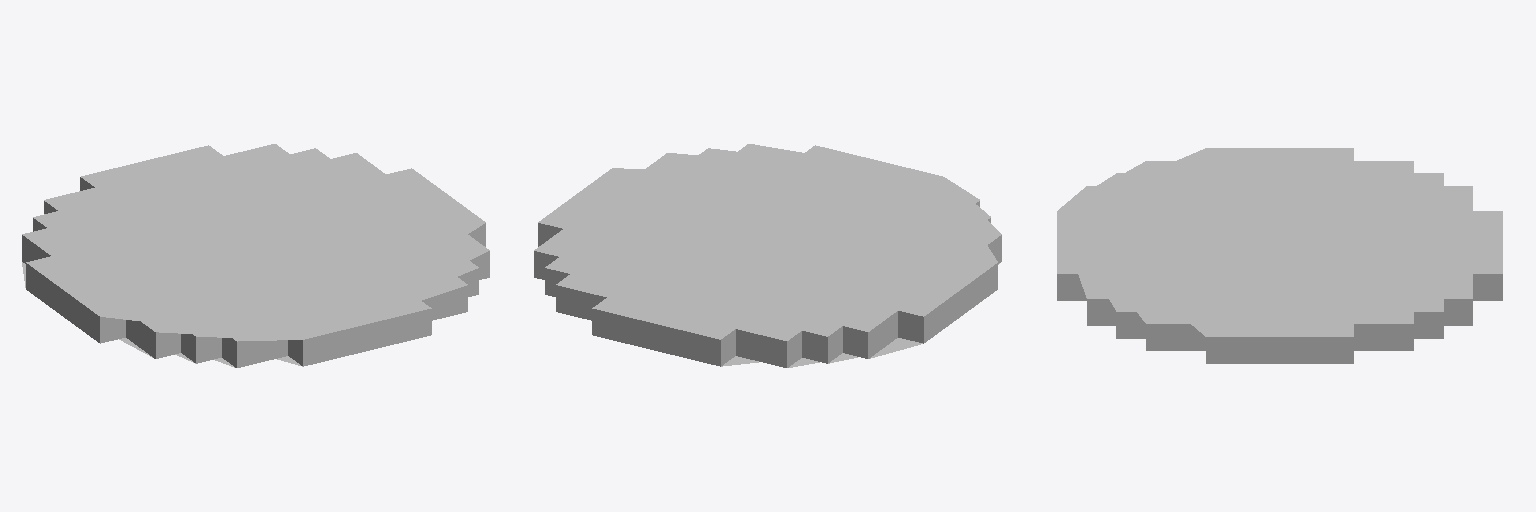
The model's file is coin_base.obj.
3 renders of one model, left to right at view 1: azimuth 30°, elevation 25°; view 2: azimuth 150°, elevation 25°; view 3: azimuth 270°, elevation 25°, orthographic.
Visible parts, largest first — view 1: coin_base; view 2: coin_base; view 3: coin_base.
Part boxes in pixels (left/top/right/bottom): coin_base: left=22, top=144, right=489, bottom=367; coin_base: left=534, top=144, right=1001, bottom=367; coin_base: left=1057, top=148, right=1502, bottom=363.
Size of the model in its own units: 1.22 by 0.0812 by 1.22.